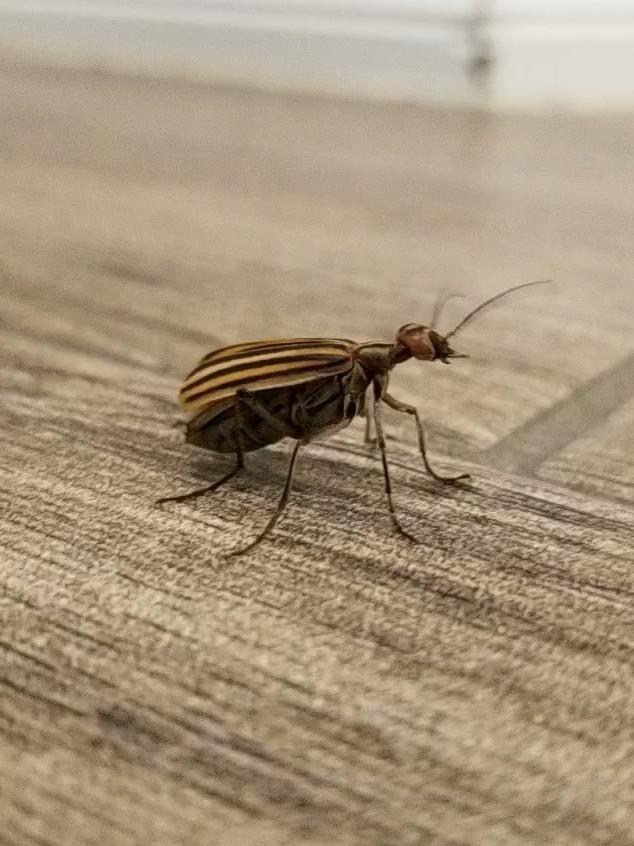blister_beetle: (119, 223, 574, 613)
